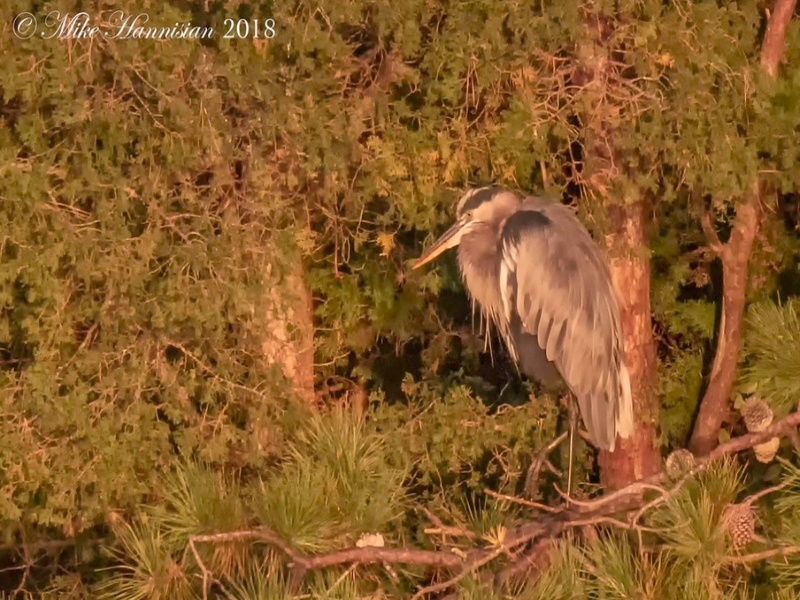heron: (410, 182, 631, 499)
